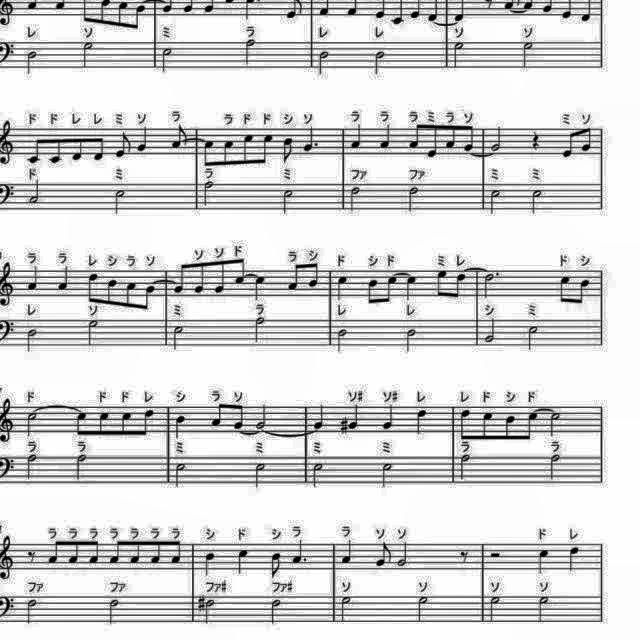Diez: (338, 416, 349, 436), (197, 595, 207, 613)
Eighth-note: (112, 130, 132, 162), (168, 124, 190, 152), (424, 122, 440, 160), (240, 131, 256, 167), (524, 408, 540, 444), (457, 406, 473, 442), (192, 262, 208, 298), (212, 260, 228, 296), (172, 262, 188, 298), (575, 276, 593, 308), (86, 270, 102, 306), (374, 540, 394, 568), (384, 272, 400, 306), (556, 273, 572, 307), (49, 134, 66, 166), (72, 408, 90, 438), (140, 408, 156, 440), (104, 276, 120, 308), (560, 129, 576, 161), (362, 276, 378, 308), (434, 268, 450, 300), (285, 262, 301, 294), (452, 270, 468, 302), (124, 278, 140, 310), (480, 410, 496, 442), (142, 283, 158, 315), (24, 135, 40, 167), (268, 549, 284, 581), (262, 131, 276, 167), (208, 402, 226, 430), (96, 408, 112, 439), (134, 1, 150, 32), (460, 123, 476, 153), (114, 0, 130, 30), (580, 125, 596, 155), (408, 122, 424, 152), (232, 402, 248, 432), (70, 133, 86, 163), (44, 537, 61, 565), (502, 412, 516, 444), (128, 540, 144, 568), (148, 540, 164, 568), (109, 540, 125, 568), (235, 256, 249, 288), (281, 134, 295, 166), (220, 138, 234, 168), (90, 133, 104, 163), (203, 139, 217, 169), (118, 409, 132, 438), (89, 539, 103, 567), (444, 124, 458, 152), (307, 262, 321, 290), (67, 540, 81, 568), (171, 540, 185, 566)
Eighth-rest: (457, 548, 471, 568), (26, 548, 38, 568)
Half-dot: (481, 270, 503, 300)
Half-note: (487, 594, 505, 626), (534, 594, 552, 624), (253, 402, 270, 433), (416, 594, 432, 626), (520, 40, 536, 72), (24, 451, 40, 482), (394, 540, 410, 570), (24, 597, 40, 627), (376, 463, 392, 493), (548, 450, 564, 480), (456, 452, 472, 482), (106, 598, 122, 628), (86, 319, 102, 349), (406, 183, 422, 213), (80, 39, 96, 69), (346, 185, 362, 215), (158, 46, 174, 76), (531, 188, 547, 218), (24, 409, 40, 439), (114, 188, 130, 218), (488, 187, 504, 217), (240, 39, 256, 69), (202, 598, 218, 628), (24, 48, 41, 76), (28, 177, 44, 206), (170, 323, 186, 352), (404, 328, 420, 357), (310, 462, 326, 491), (72, 452, 88, 481), (24, 326, 40, 354), (488, 124, 504, 152), (268, 600, 284, 628), (336, 328, 352, 356), (528, 326, 544, 354), (252, 462, 268, 490), (483, 318, 499, 346), (174, 464, 190, 492), (371, 50, 387, 78), (280, 188, 296, 216), (316, 50, 332, 78), (548, 410, 564, 438), (340, 596, 354, 626), (450, 42, 464, 72), (254, 318, 268, 347), (202, 180, 216, 208)
Half-rest: (488, 548, 504, 562)
Quarter-dot: (289, 536, 307, 564)
Quarter-note: (404, 270, 421, 302), (533, 546, 551, 576), (299, 125, 317, 155), (56, 266, 74, 294), (414, 407, 430, 438), (379, 403, 396, 432), (336, 272, 352, 302), (566, 544, 582, 574), (311, 402, 327, 432), (236, 547, 252, 577), (346, 403, 362, 433), (253, 272, 270, 300), (172, 412, 188, 440), (135, 126, 151, 154), (26, 266, 42, 294), (378, 124, 394, 152), (340, 536, 356, 564), (202, 550, 218, 578), (350, 123, 364, 151)
Quarter-rest: (528, 128, 544, 152)
